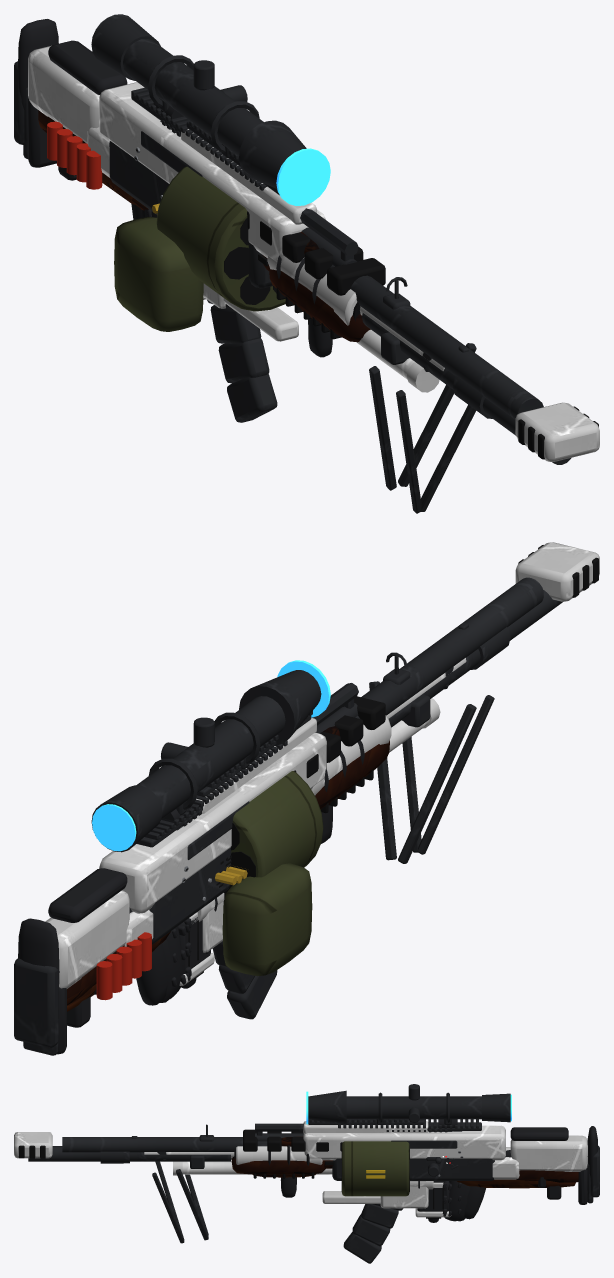
Rendered from weapons2.glb.
3 renders of one model, top to bottom at view 1: azimuth 30°, elevation 25°; view 2: azimuth 150°, elevation 25°; view 3: azimuth 270°, elevation 25°, orthographic. The views are drawn at different scales.
Visible parts, largest first — view 1: m82_gun, m82_gblk, m60_gun, cylinder, abox, ak_gun, m32_gblk, m82_gpoly, m82_engr, m82_lens, m60_gwood2, pump_shellr (+4 smaller); view 2: m82_gun, m82_gblk, m60_gun, abox, cylinder, m82_gpoly, ak_gun, m82_engr, m32_gblk, m82_lens, pump_shellr, m60_gwood2 (+5 smaller); view 3: m82_gun, m82_gblk, m60_gun, cylinder, ak_gun, m32_gblk, m82_gpoly, m60_gwood2, m82_engr, pump_gblk, pump_gwood, m32_gpoly (+5 smaller).
Boxes of the visible parts, x1,y1,x2,y2 form: m82_gun: (91, 14, 543, 490); m82_gblk: (28, 45, 599, 461); m60_gun: (14, 61, 571, 513); cylinder: (156, 166, 285, 311); abox: (114, 217, 203, 331); ak_gun: (23, 87, 431, 422); m32_gblk: (181, 129, 357, 341); m82_gpoly: (18, 19, 183, 219); m82_engr: (136, 149, 598, 459); m82_lens: (276, 148, 330, 205); m60_gwood2: (38, 110, 370, 342); pump_shellr: (47, 121, 102, 189); m82_gun: (91, 577, 543, 863); m82_gblk: (45, 542, 599, 988); m60_gun: (14, 590, 563, 1047); abox: (222, 863, 312, 976); cylinder: (231, 771, 323, 877); m82_gpoly: (18, 805, 192, 1027); ak_gun: (23, 652, 453, 1055); m82_engr: (186, 545, 598, 870); m32_gblk: (196, 715, 391, 813); m82_lens: (92, 660, 330, 851); pump_shellr: (96, 932, 151, 1000); m60_gwood2: (67, 740, 389, 1005); m82_gun: (62, 1084, 510, 1240); m82_gblk: (14, 1125, 587, 1208); m60_gun: (28, 1123, 599, 1243); cylinder: (342, 1141, 409, 1196); ak_gun: (157, 1124, 593, 1263); m32_gblk: (236, 1121, 510, 1203); m82_gpoly: (438, 1119, 598, 1219); m60_gwood2: (231, 1156, 578, 1182); m82_engr: (18, 1129, 460, 1158); pump_gblk: (144, 1152, 332, 1175); pump_gwood: (252, 1173, 575, 1188); m32_gpoly: (268, 1145, 546, 1221).
Bounding box in the file's own units: 0.175 × 0.4029 × 1.21.
Materials: 17 (8 with a texture image).
